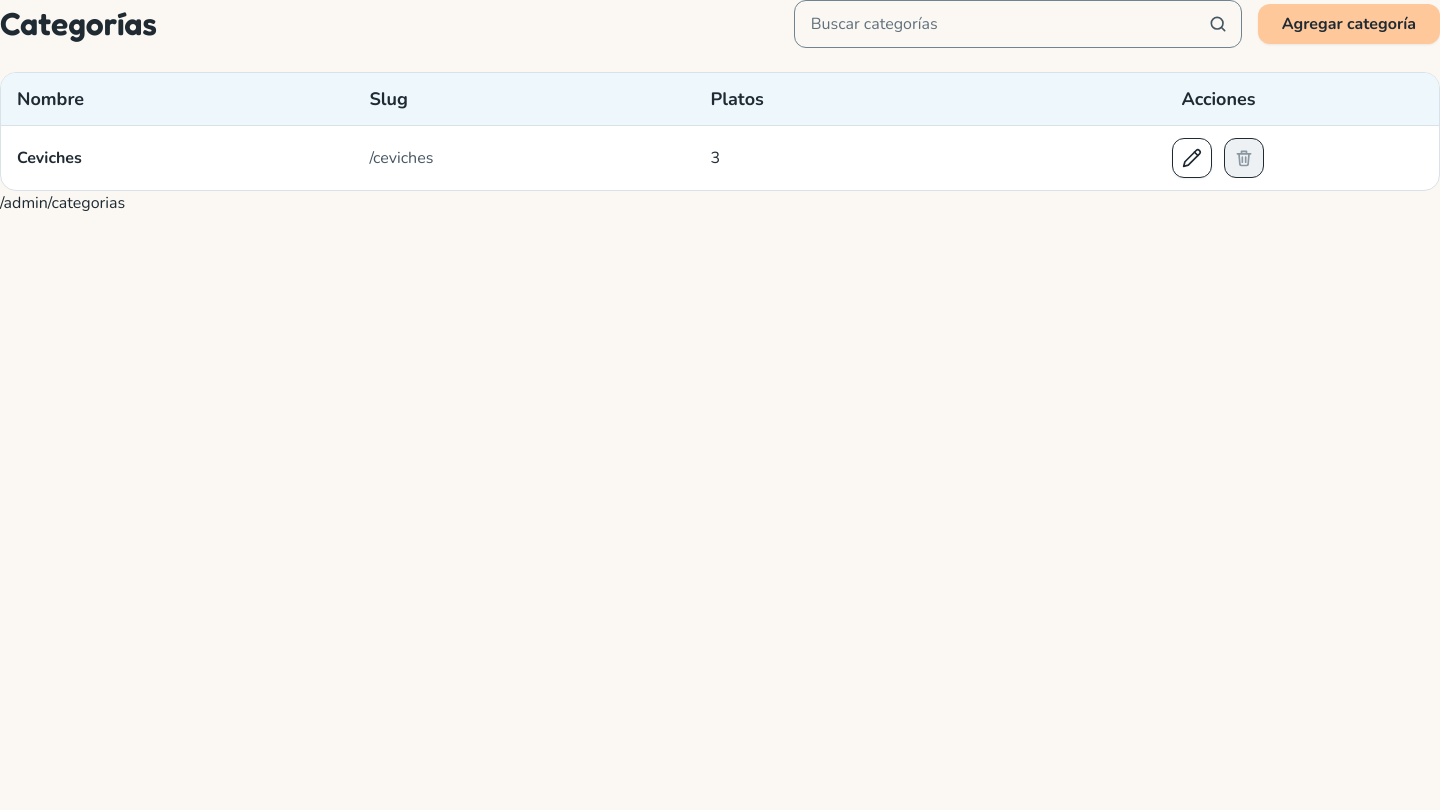
it: AdminCategoriesPage › "Agregar categoría" abre el diálogo y "Editar" lo abre con los datos
Click the button "Agregar categoría".
click(1349, 24)  # box [1258,4,1439,44]
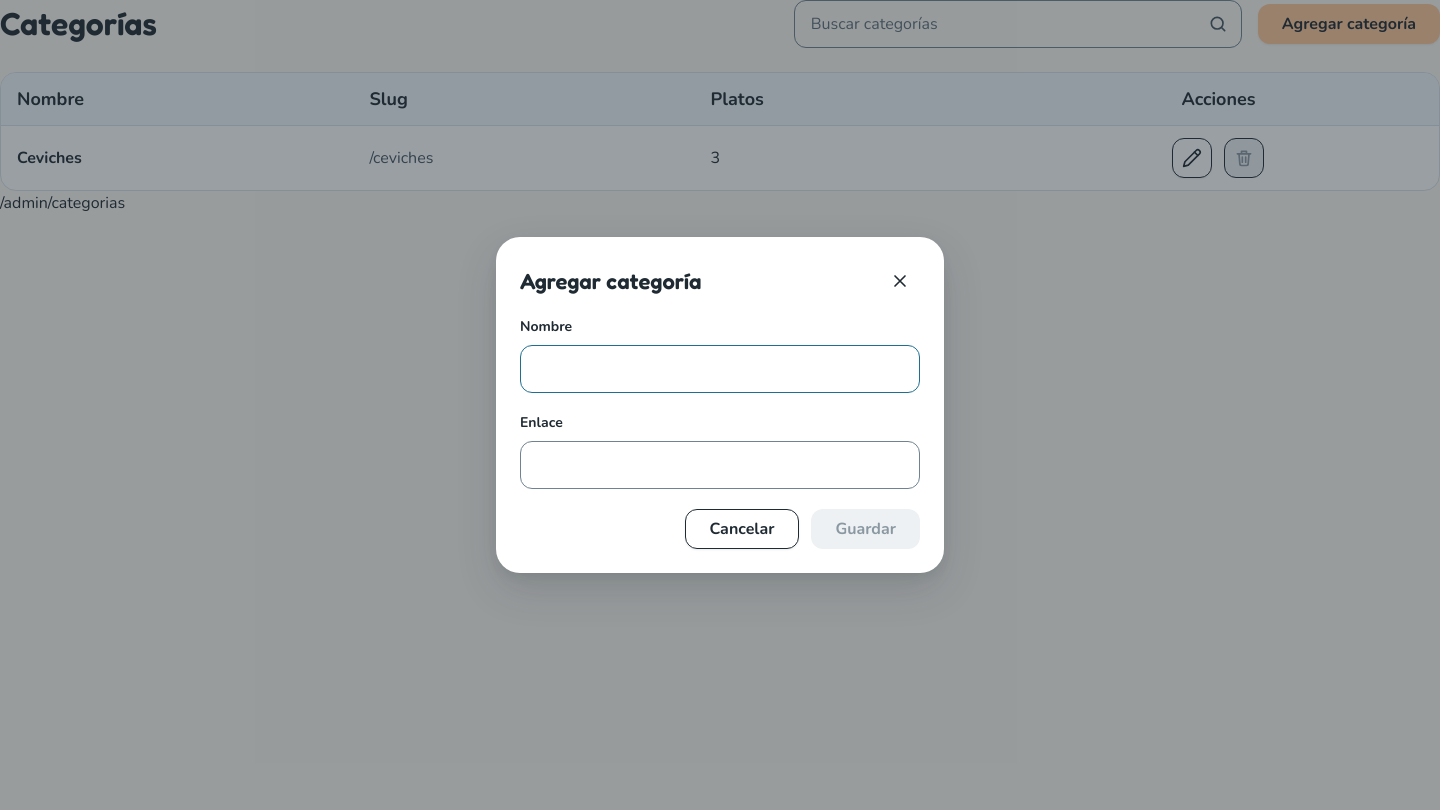
Check: the heading "Agregar categoría" is shown, box [520,267,701,295]
Click the button "Cancelar".
click(742, 529)  # box [684,509,799,549]
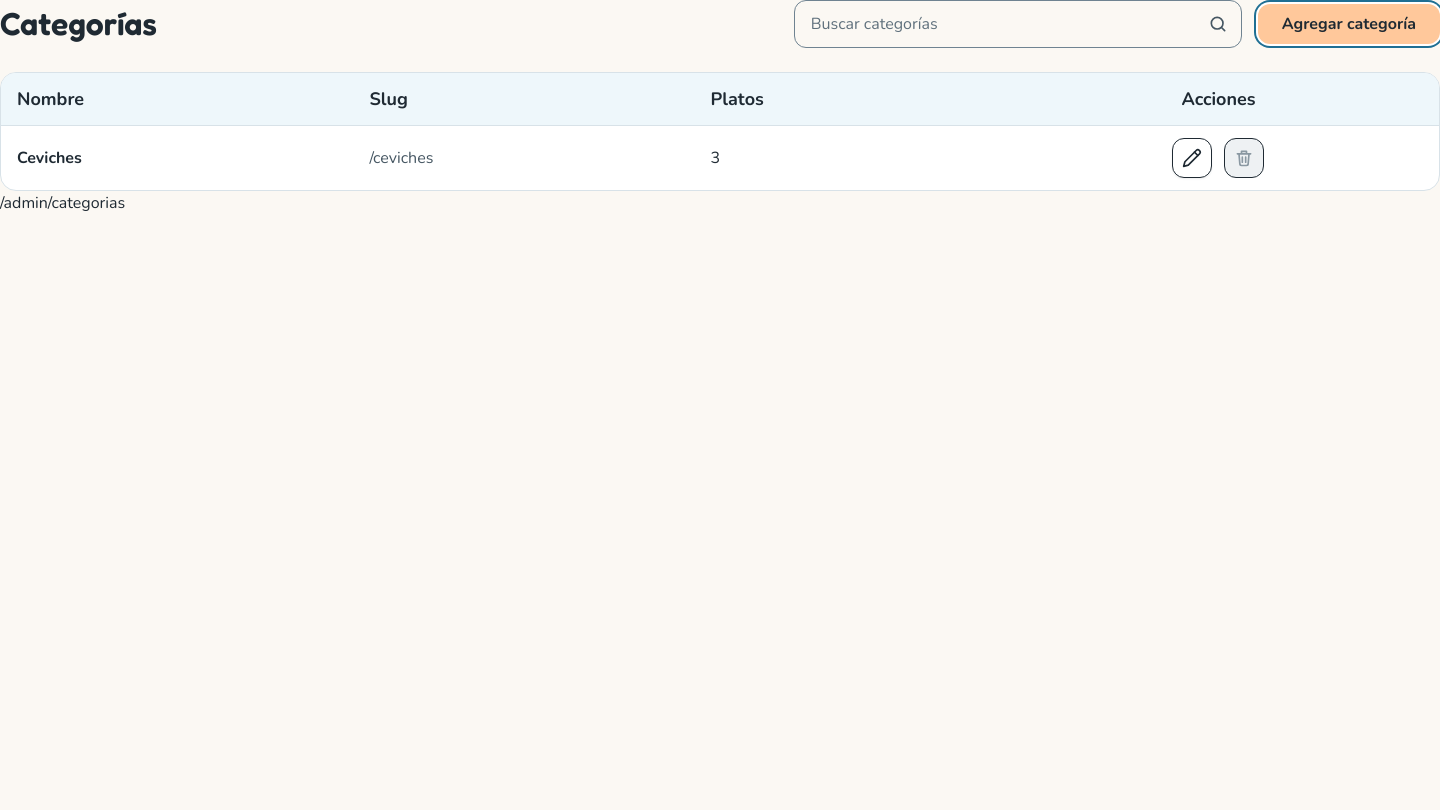
Click the button named "Editar Ceviches".
click(1192, 158)  # box [1172,138,1212,178]
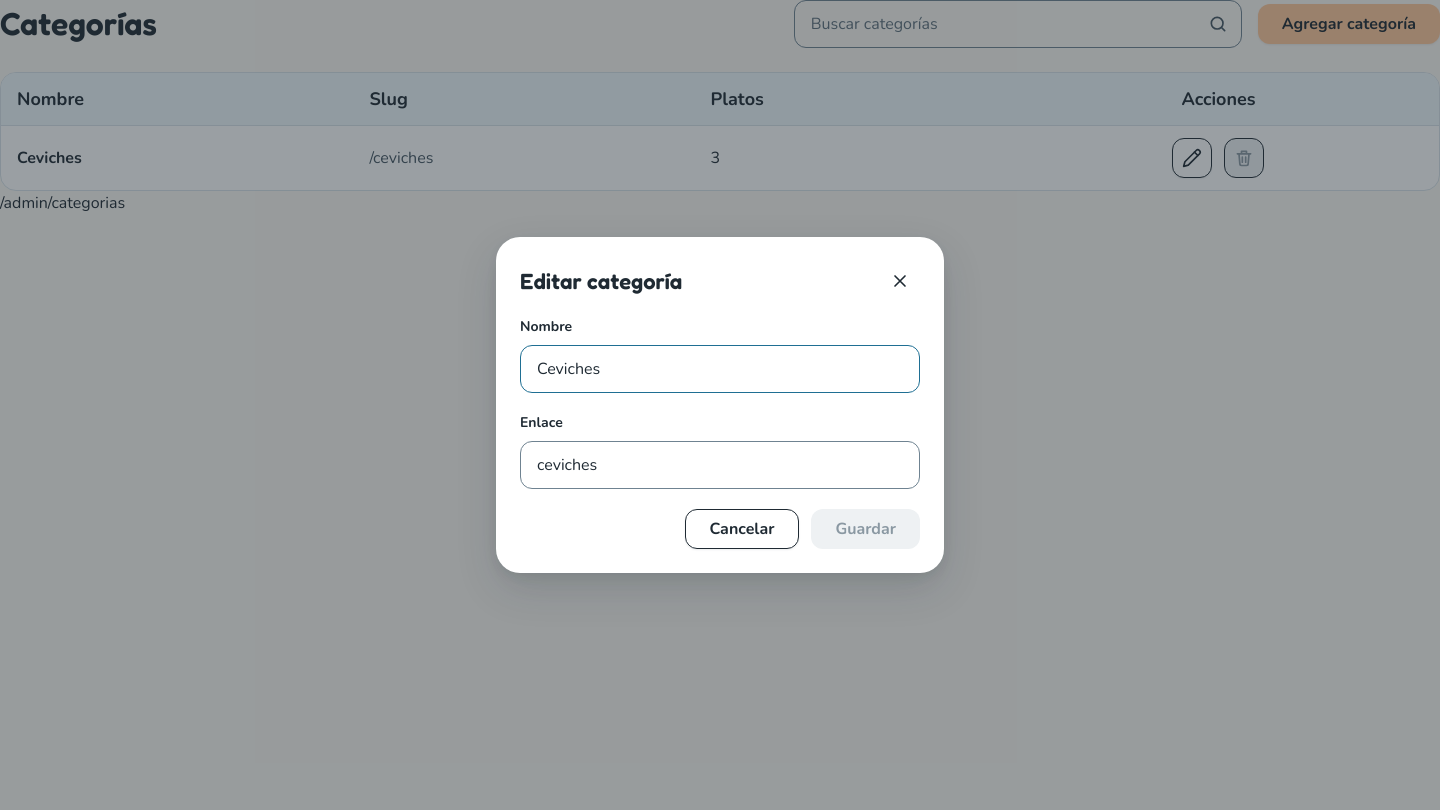
Check: the heading "Editar categoría" is shown, box [520,267,682,295]
Check: the field labelled "Nombre" holds "Ceviches", box [520,345,920,393]
